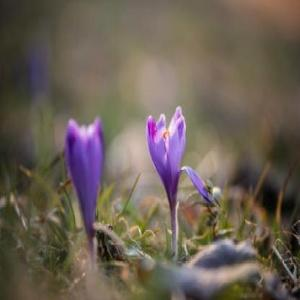Saffron: (67, 115, 105, 242), (149, 106, 190, 206)
